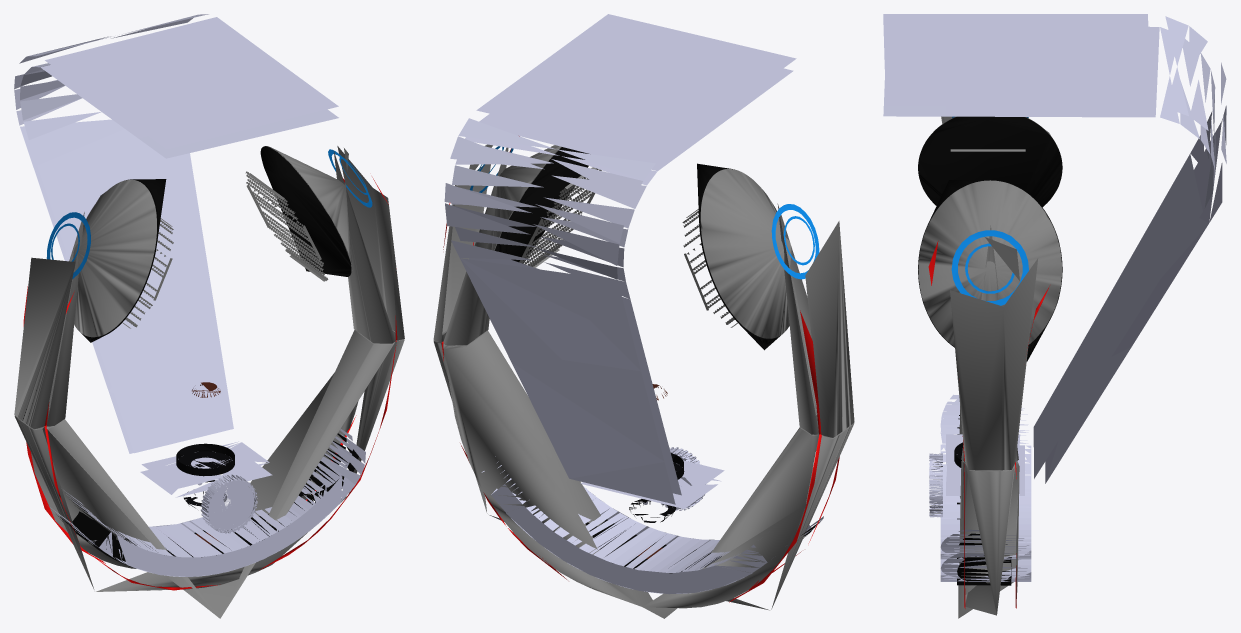
The model's file is ergoflex-headphones-2.glb.
The picture shows the model from 3 angles, left to right: view 1: azimuth 30°, elevation 25°; view 2: azimuth 150°, elevation 25°; view 3: azimuth 270°, elevation 25°; orthographic projection. The views are drawn at different scales.
Parts seen in each view (by area): view 1: Mesh_5, Mesh_0; view 2: Mesh_5, Mesh_0; view 3: Mesh_5, Mesh_0.
Boxes of the visible parts, x1,y1,x2,y2 form: Mesh_5: [14, 14, 365, 576]; Mesh_0: [14, 146, 404, 618]; Mesh_5: [444, 14, 823, 594]; Mesh_0: [433, 136, 854, 618]; Mesh_5: [883, 14, 1226, 585]; Mesh_0: [918, 116, 1062, 618].
Size of the model in its own units: 0.1733 by 0.23 by 0.1283.
2 materials, 2 textured.
